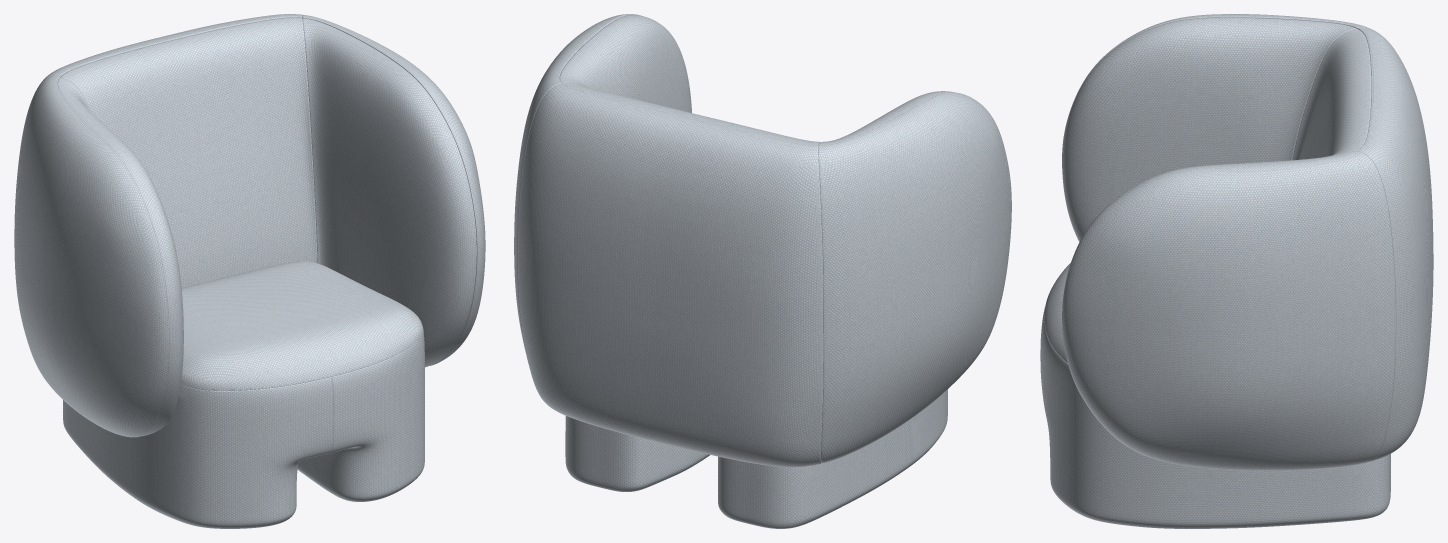
The model's file is ISY10BU00A-5D4L-opt.glb.
3 views of the same model, side by side, from view 1: azimuth 30°, elevation 25°; view 2: azimuth 150°, elevation 25°; view 3: azimuth 270°, elevation 25° (orthographic). The views are drawn at different scales.
Parts seen in each view (by area): view 1: meshobj#0; view 2: meshobj#0; view 3: meshobj#0.
Boxes of the visible parts, bbox=[...] form: meshobj#0: bbox=[14, 14, 485, 528]; meshobj#0: bbox=[514, 14, 1011, 528]; meshobj#0: bbox=[1040, 14, 1433, 528].
Bounding box in the file's own units: 0.723 × 0.6444 × 0.6066.
Materials: 1 (1 with a texture image).
